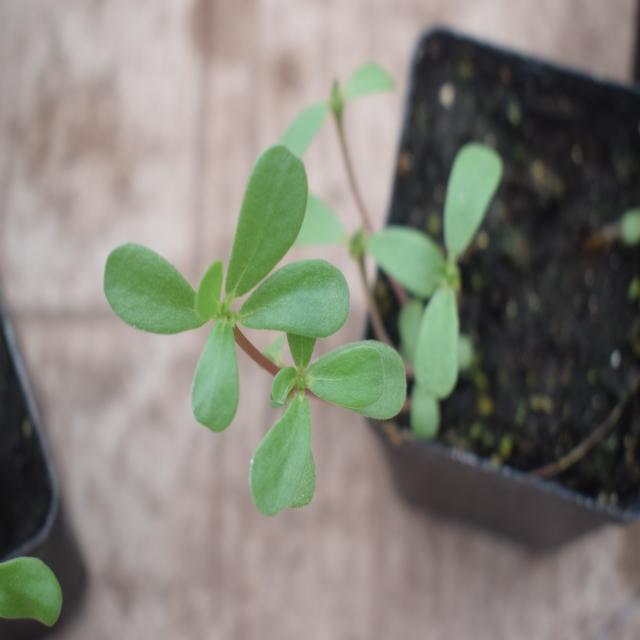purslane: (92, 158, 444, 496)
